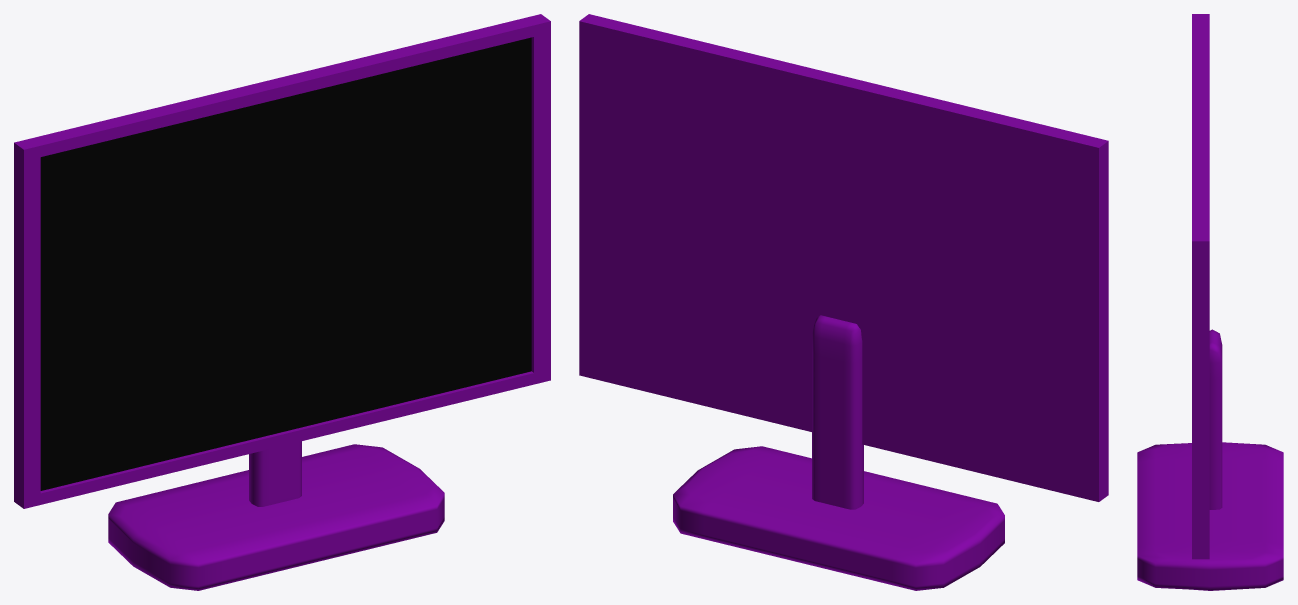
File: ComputerMonitor.fbx
3 views of the same model, side by side, from view 1: azimuth 30°, elevation 25°; view 2: azimuth 150°, elevation 25°; view 3: azimuth 270°, elevation 25° (orthographic). The views are drawn at different scales.
Parts seen in each view (by area): view 1: pCube6, pCube5, pCube1, pCube2; view 2: pCube5, pCube1, pCube2; view 3: pCube1, pCube5, pCube2.
Boxes of the visible parts, bbox=[...] form: pCube6: bbox=[40, 37, 531, 490]; pCube5: bbox=[14, 14, 550, 508]; pCube1: bbox=[108, 444, 444, 590]; pCube2: bbox=[249, 441, 301, 506]; pCube5: bbox=[579, 14, 1108, 501]; pCube1: bbox=[673, 446, 1004, 590]; pCube2: bbox=[812, 315, 863, 509]; pCube1: bbox=[1137, 442, 1283, 590]; pCube5: bbox=[1192, 14, 1209, 559]; pCube2: bbox=[1209, 329, 1222, 509].
Bounding box in the file's own units: 2.02 × 1.68 × 0.55.
